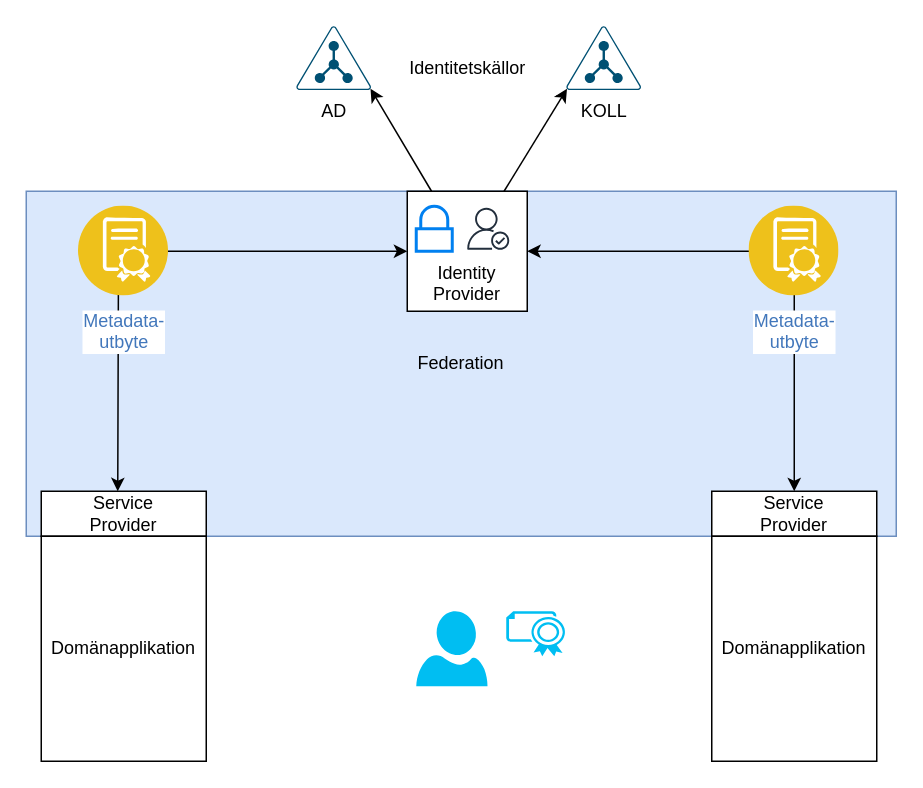
This 923x788 diagram has some shape labels left out. The shapes that lost their labels are listed below. From the top down, each one's centre as x and y in pixels, then its label:
At point 451,648: "Användare".
At point 536,633: "SITHS- kort".
